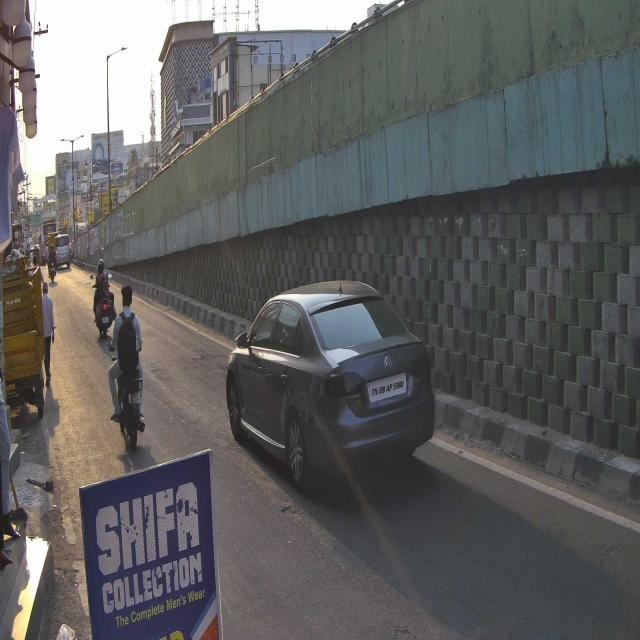single_rider: (106, 281, 150, 451)
